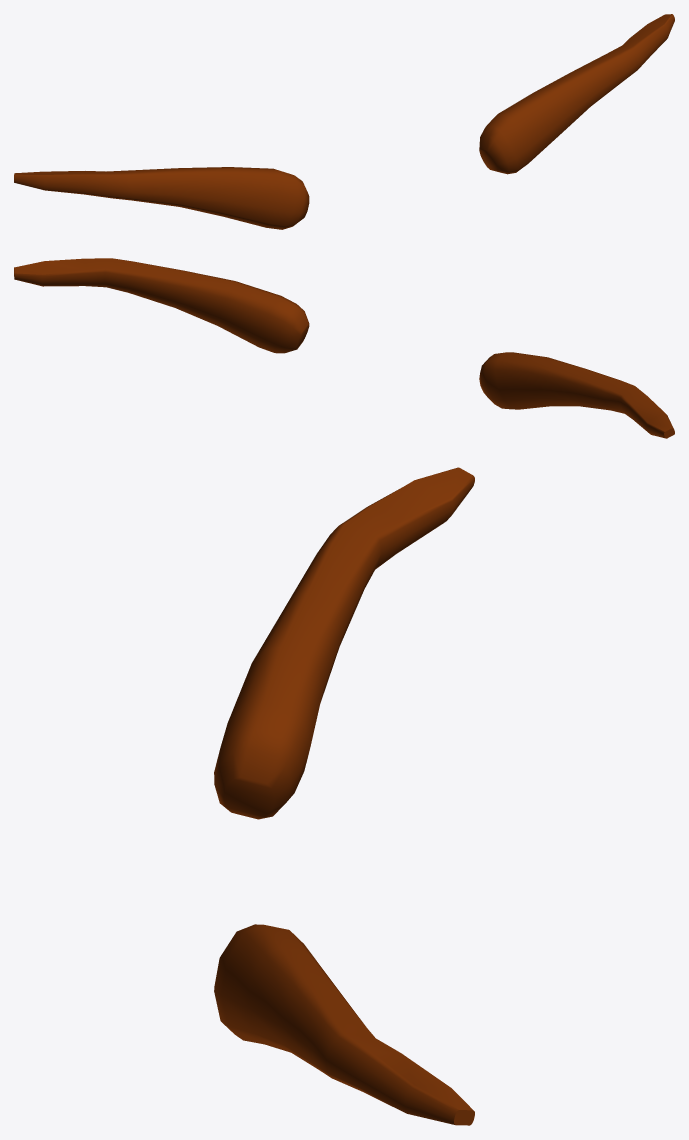
File: Eyebrows_26_02.fbx
3 renders of one model, top to bottom at view 1: azimuth 30°, elevation 25°; view 2: azimuth 150°, elevation 25°; view 3: azimuth 270°, elevation 25°, orthographic. The views are drawn at different scales.
Visible parts, largest first — view 1: Eyebrows_26_02; view 2: Eyebrows_26_02; view 3: Eyebrows_26_02.
Boxes of the visible parts, x1=… form: Eyebrows_26_02: x1=14, y1=14, x2=674, y2=229; Eyebrows_26_02: x1=14, y1=258, x2=674, y2=438; Eyebrows_26_02: x1=214, y1=467, x2=474, y2=1125.
Size of the model in its own units: 17.7 by 1.89 by 3.02.
